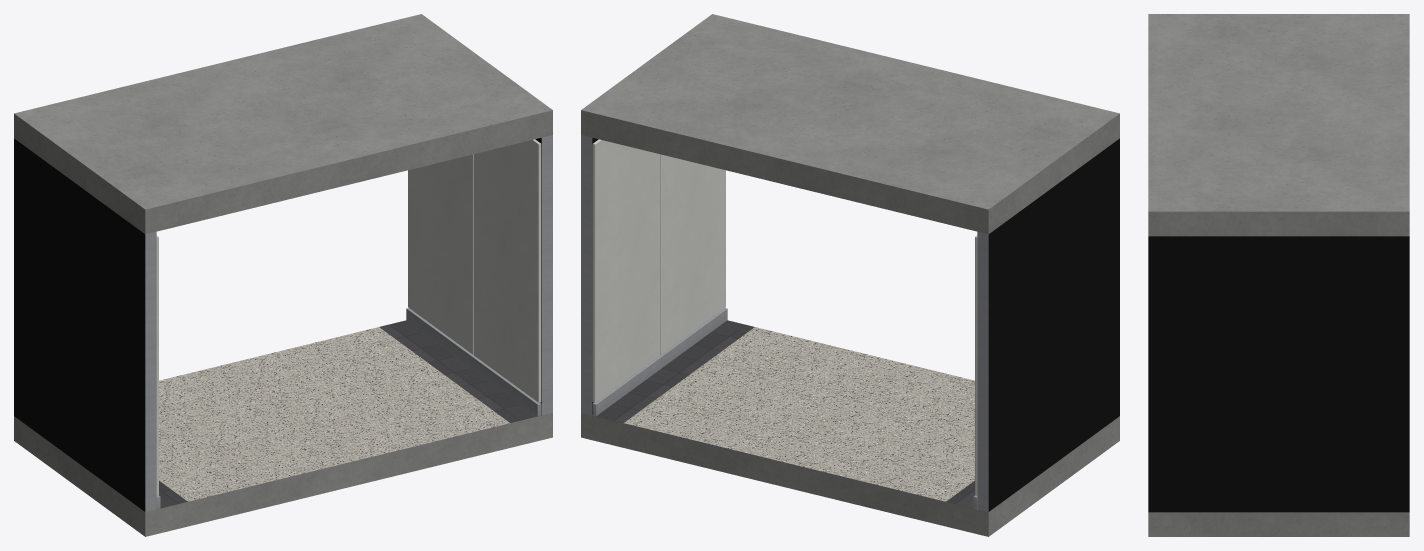
File: gteki_passage_straight_w4_l2p4.glb
3 renders of one model, left to right at view 1: azimuth 30°, elevation 25°; view 2: azimuth 150°, elevation 25°; view 3: azimuth 270°, elevation 25°, orthographic.
Parts seen in each view (by area): view 1: VIS_walls, VIS_ceiling, VIS_floor; view 2: VIS_walls, VIS_ceiling, VIS_floor; view 3: VIS_walls, VIS_ceiling, VIS_floor.
Part boxes in pixels (x1=…): VIS_walls: x1=14, y1=135, x2=552, y2=511; VIS_ceiling: x1=14, y1=14, x2=552, y2=234; VIS_floor: x1=14, y1=320, x2=552, y2=536; VIS_walls: x1=581, y1=135, x2=1119, y2=511; VIS_ceiling: x1=581, y1=14, x2=1119, y2=234; VIS_floor: x1=581, y1=320, x2=1119, y2=536; VIS_walls: x1=1148, y1=236, x2=1409, y2=512; VIS_ceiling: x1=1148, y1=14, x2=1409, y2=236; VIS_floor: x1=1148, y1=512, x2=1409, y2=536.
Size of what is drawn, in the model's own units: 4.3 by 3.3 by 2.4.
9 materials, 6 textured.
